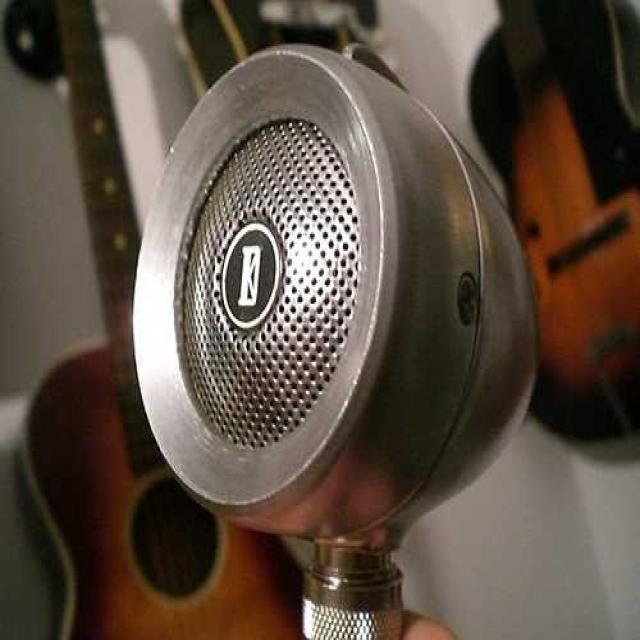microphone: (132, 41, 532, 634)
